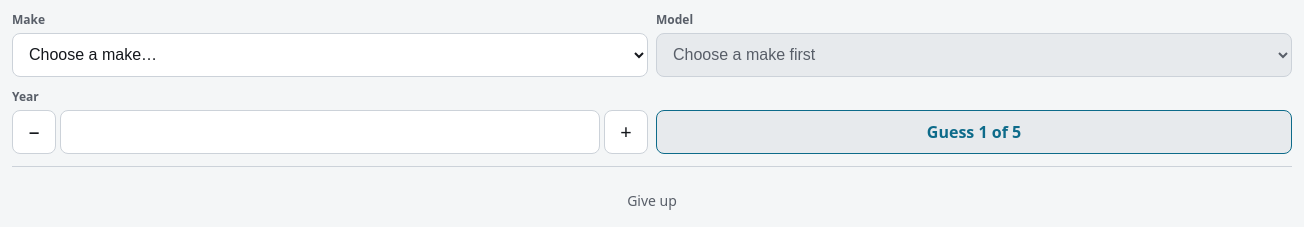
Test: GuessForm — validation (§5.3.4) › submit with no make chosen shows "Choose a make" and marks #mtd-make invalid; never silently dead
Click the button "Guess 1 of 5": (974, 132) top-left (656, 110), bottom-right (1292, 154)
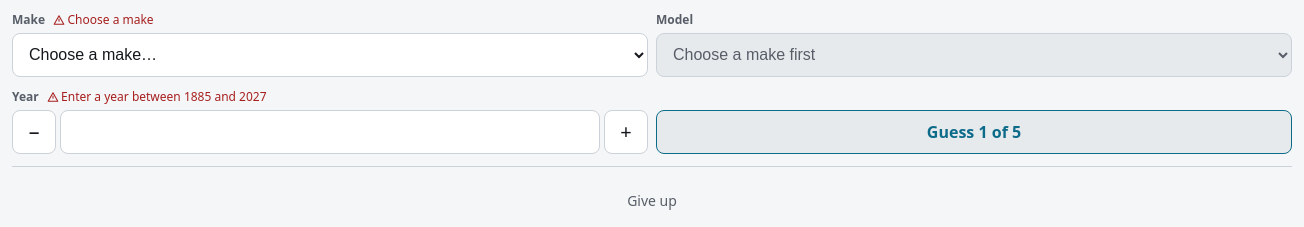
Now the text "Choose a make" is shown, box top-left (53, 12), bottom-right (158, 29)
